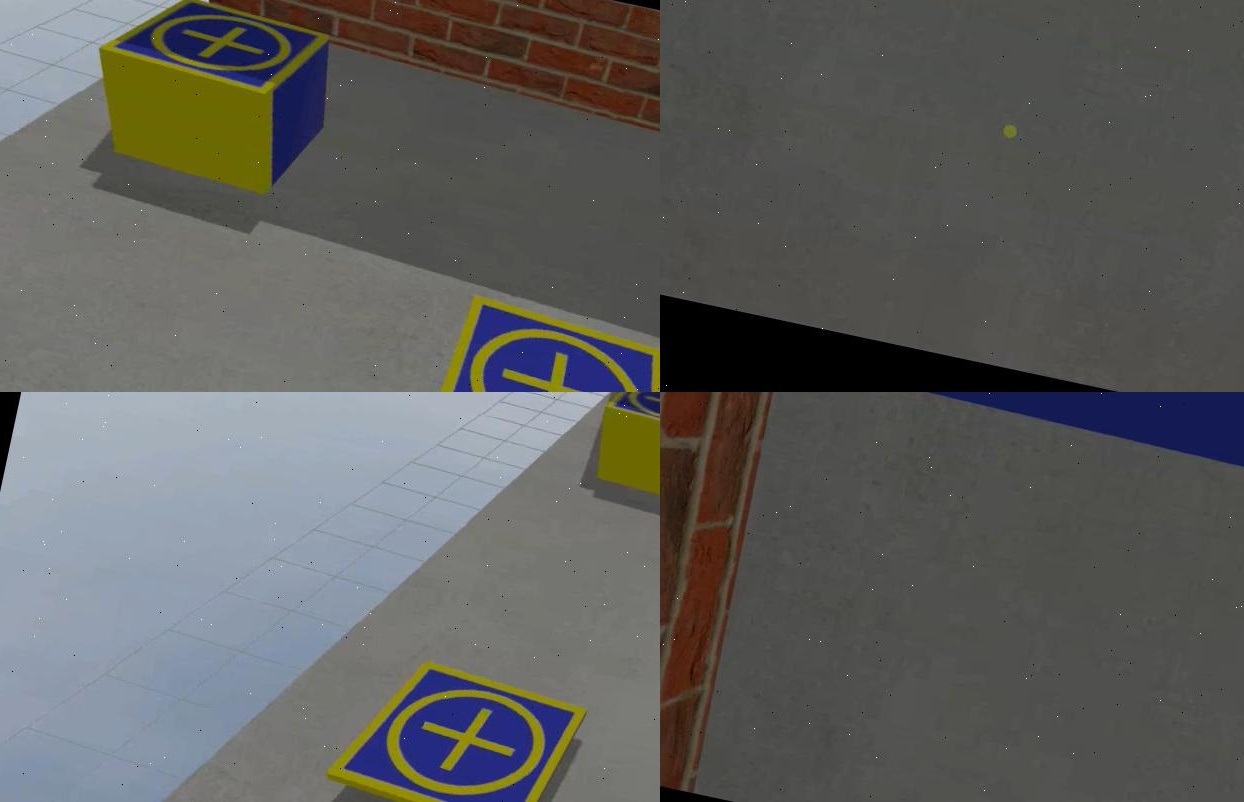large_base: (858, 392, 1242, 518)
small_base: (320, 647, 588, 802), (419, 290, 659, 392), (96, 1, 330, 105), (600, 392, 659, 447)
